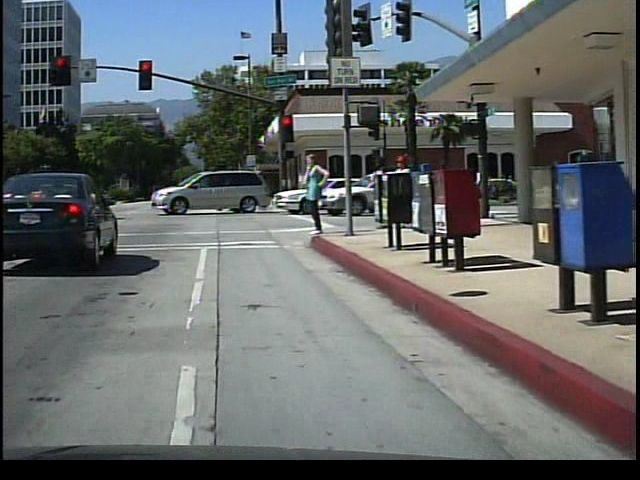person: (298, 146, 330, 239), (389, 148, 418, 231), (361, 149, 385, 224)
